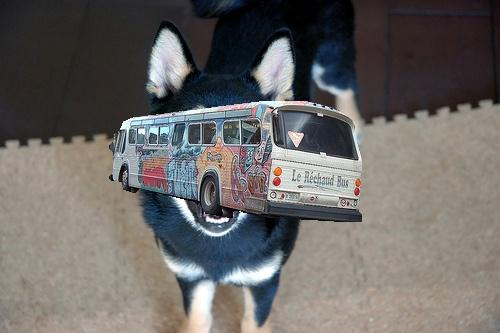tampered: (110, 102, 362, 222)
